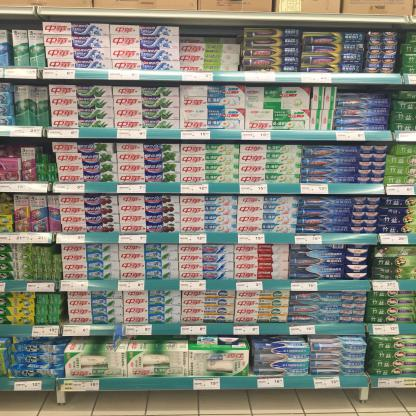Void: (181, 25, 242, 42), (342, 85, 392, 95), (38, 139, 53, 160), (2, 138, 18, 154)
